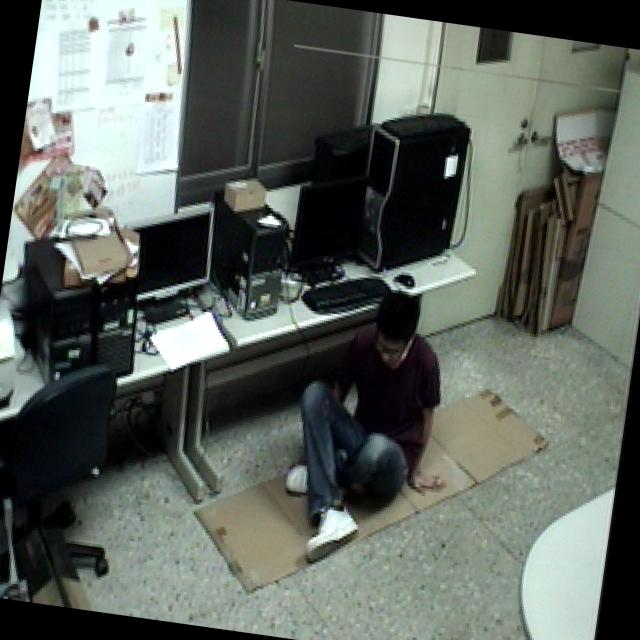sit: (271, 272, 472, 586)
